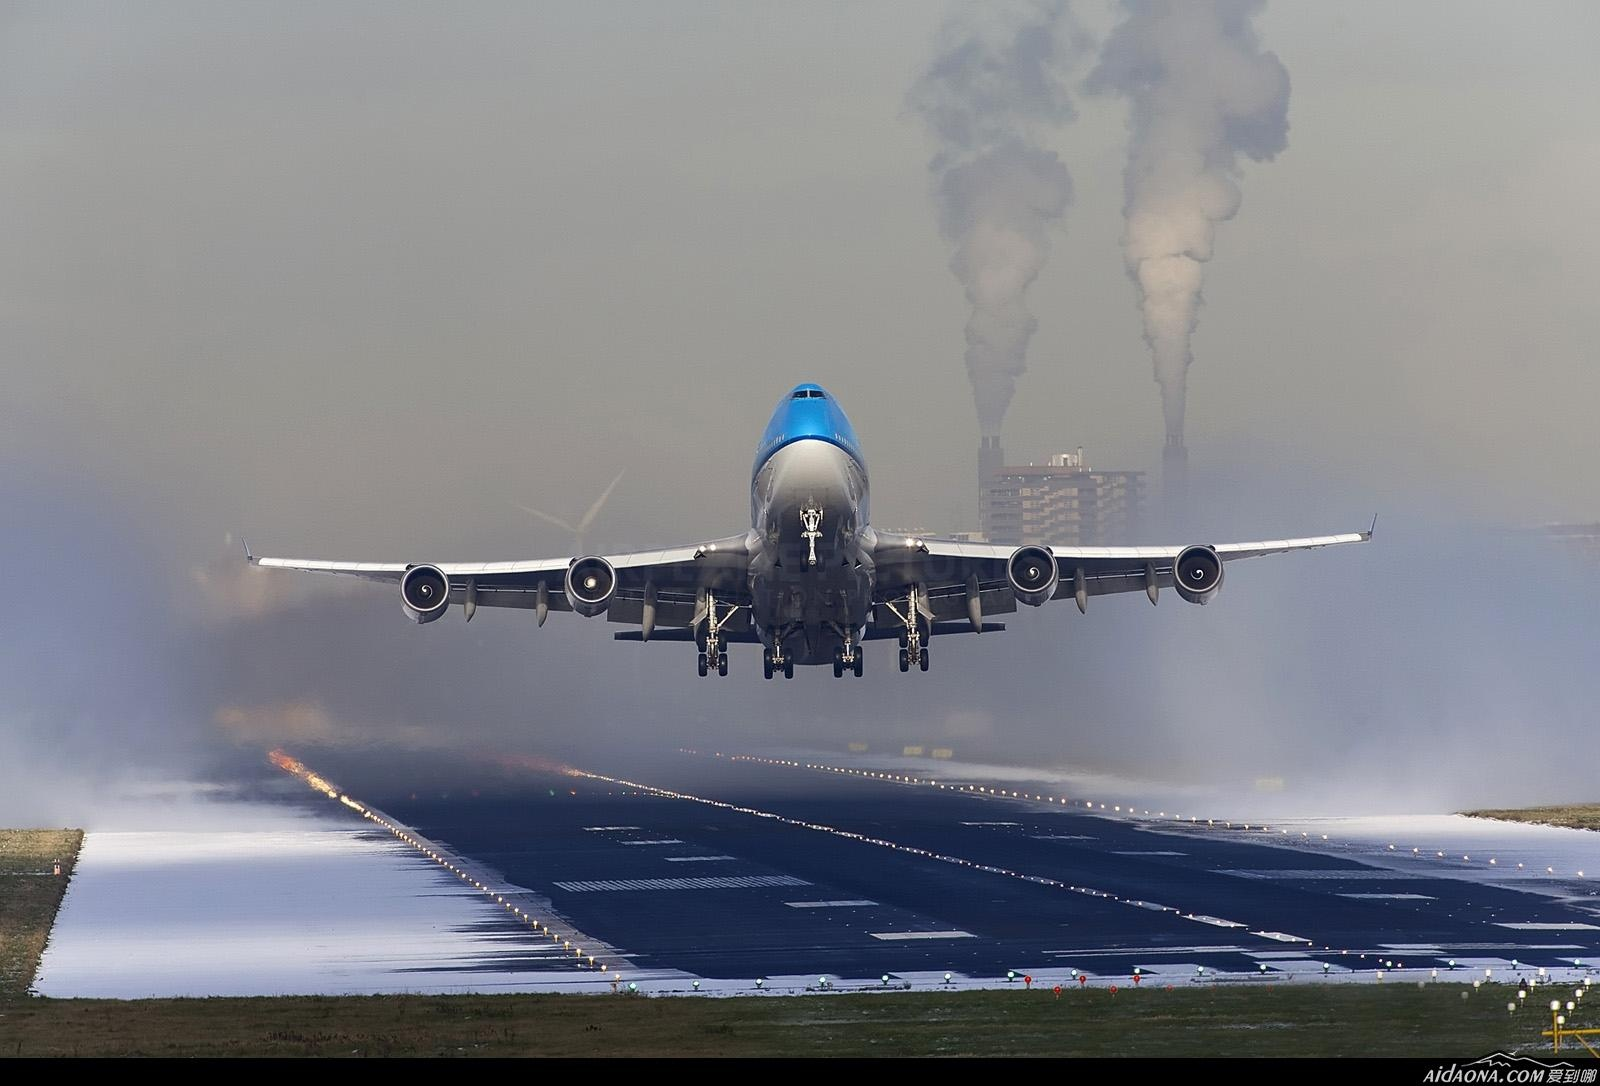airplane: (208, 377, 1379, 690)
